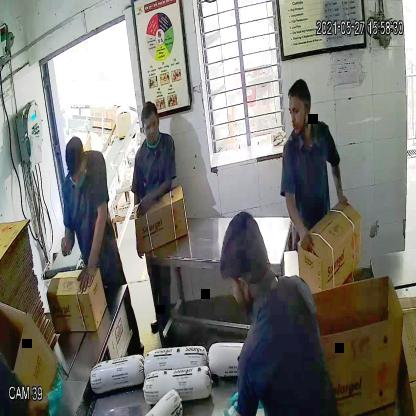no_goggles: (285, 103, 314, 123), (140, 118, 163, 136)
